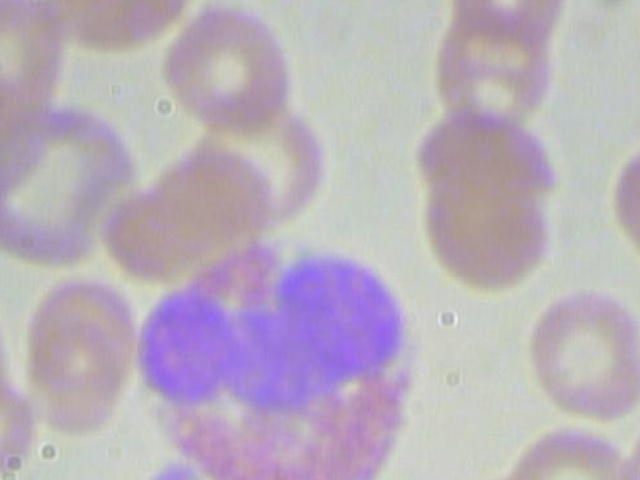RBC: (416, 163, 564, 294), (158, 0, 299, 135), (517, 282, 640, 429), (25, 0, 197, 68), (0, 0, 76, 131), (444, 0, 579, 44), (0, 360, 44, 480), (0, 280, 27, 431)
WBC: (121, 227, 425, 480)
